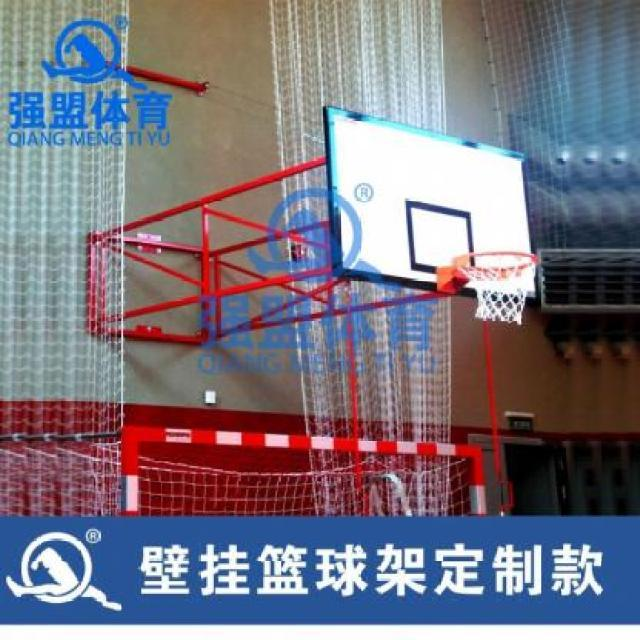rim: (457, 250, 539, 324)
